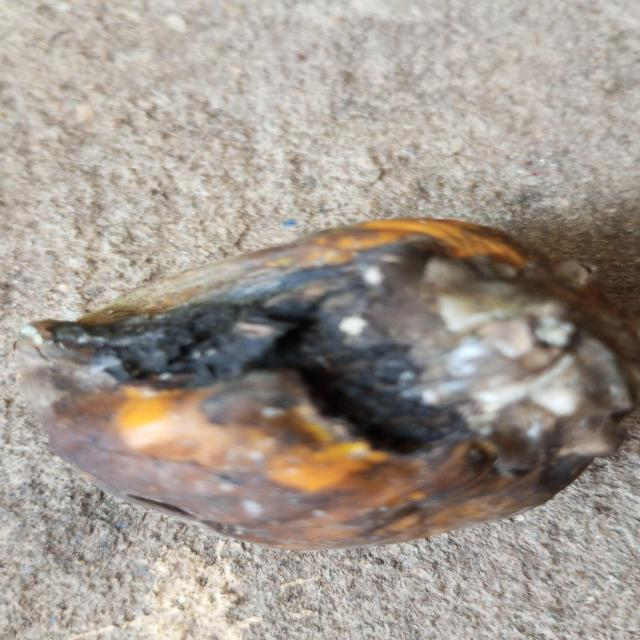damaged: (16, 218, 640, 549)
